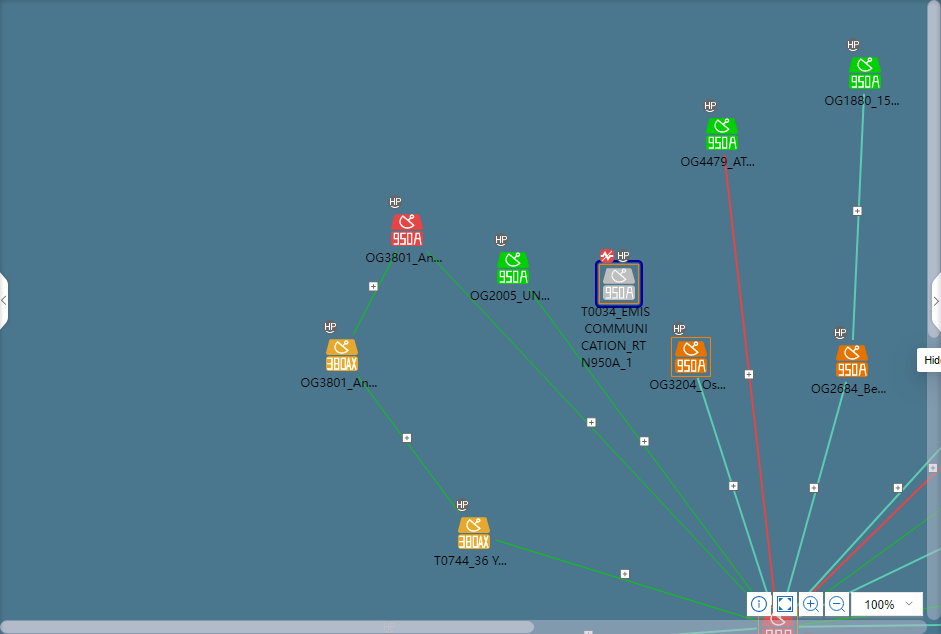Link_Blue: (808, 446, 941, 593), (695, 378, 769, 592), (786, 382, 849, 593), (845, 548, 941, 592), (851, 94, 866, 342), (800, 624, 941, 629)
Link_Green: (425, 249, 747, 594), (526, 288, 754, 593), (495, 538, 757, 624), (354, 376, 461, 516), (823, 516, 927, 593), (347, 252, 399, 339)
Link_Red: (721, 154, 777, 593), (814, 478, 927, 591)
RTN_Gray: (600, 267, 635, 302)
RTN_Green: (849, 57, 880, 89), (497, 252, 527, 284), (707, 119, 737, 150)
RTN_Orange: (673, 341, 707, 374), (836, 346, 867, 377)
RTN_Red: (391, 215, 422, 246)
RTN_Yellow: (326, 340, 357, 371), (458, 519, 489, 550)
